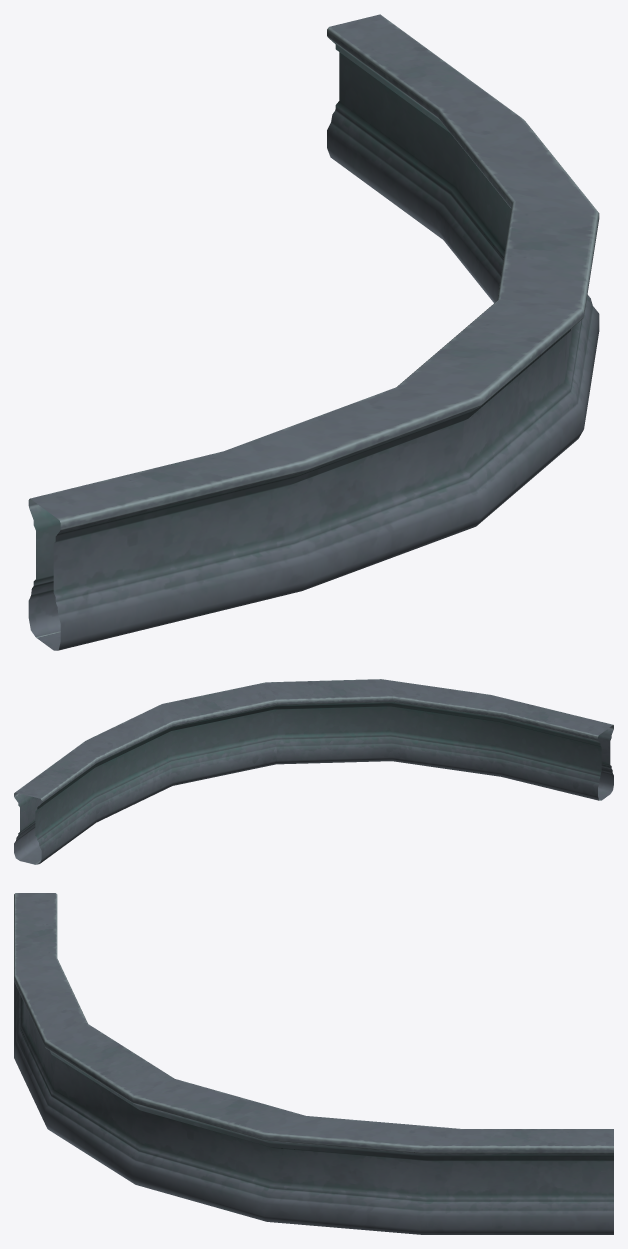
Rendered from Railing_Curved.fbx.
The picture shows the model from 3 angles, top to bottom: view 1: azimuth 30°, elevation 25°; view 2: azimuth 150°, elevation 25°; view 3: azimuth 270°, elevation 25°; orthographic projection. The views are drawn at different scales.
Visible parts, largest first — view 1: Railing_Curved; view 2: Railing_Curved; view 3: Railing_Curved.
Part boxes in pixels (x1,y1,x2,y2): Railing_Curved: [28, 14, 599, 650]; Railing_Curved: [14, 679, 613, 864]; Railing_Curved: [14, 893, 613, 1234].
Size of the model in its own units: 519 by 87.68 by 519.
1 material, 1 textured.
